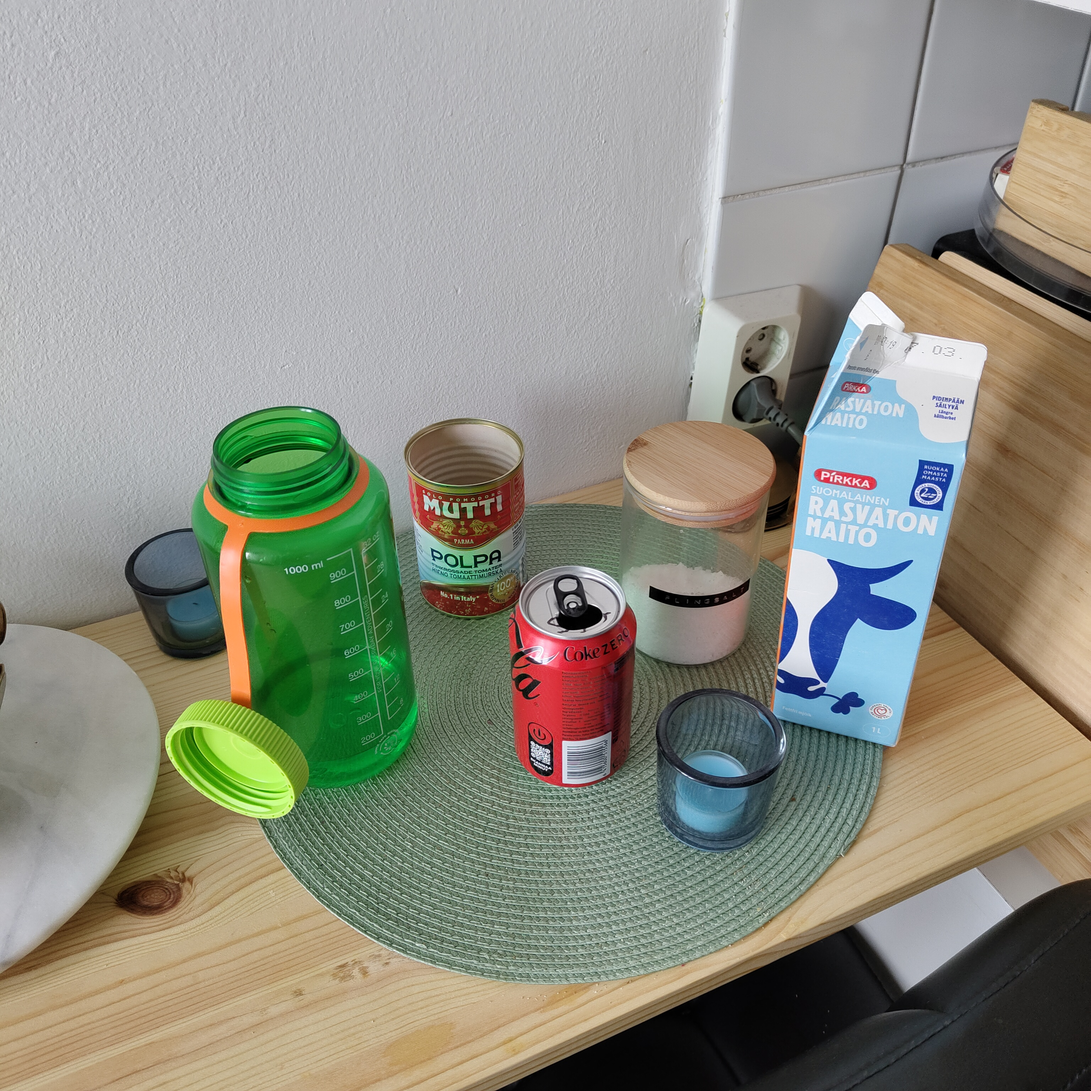Dryckeskartong: (767, 290, 987, 747)
Konservburk: (404, 416, 524, 620)
Pantburk: (508, 565, 636, 786)
